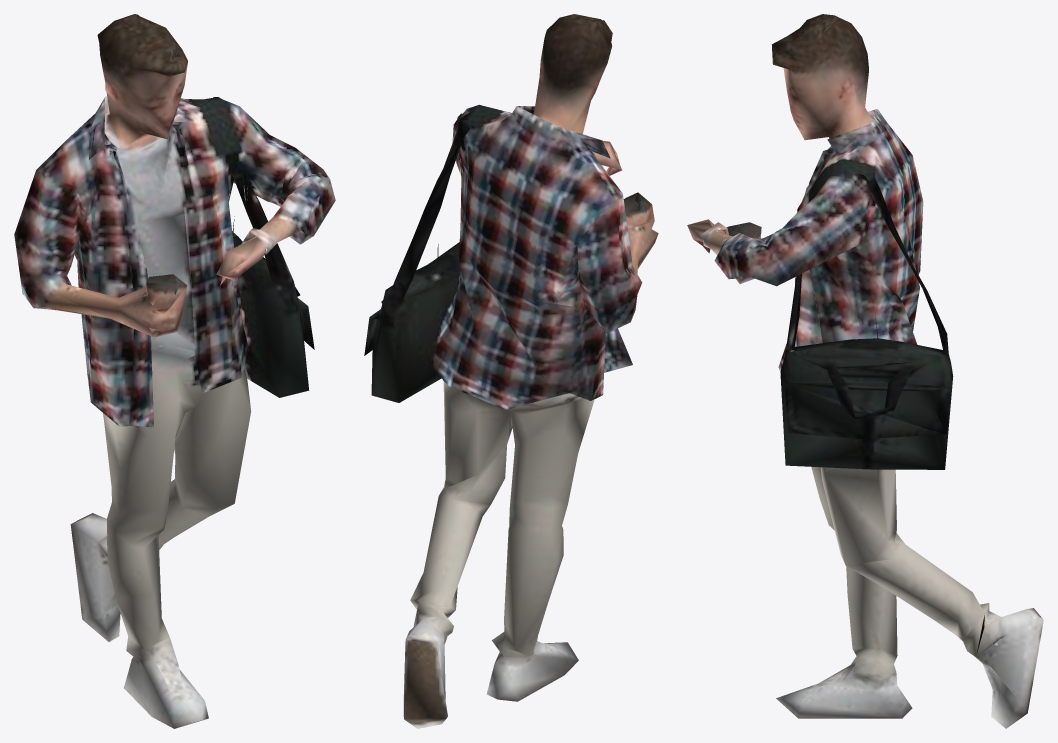
Rendered from extra-man-3.glb.
3 renders of one model, left to right at view 1: azimuth 30°, elevation 25°; view 2: azimuth 150°, elevation 25°; view 3: azimuth 270°, elevation 25°, orthographic. The views are drawn at different scales.
Parts seen in each view (by area): view 1: Mesh_0; view 2: Mesh_0; view 3: Mesh_0.
Boxes of the visible parts, x1,y1,x2,y2 form: Mesh_0: (14, 14, 335, 728); Mesh_0: (364, 14, 658, 728); Mesh_0: (687, 14, 1043, 728).
Bounding box in the file's own units: 0.7516 × 1.89 × 0.9073.
Materials: 1 (1 with a texture image).
